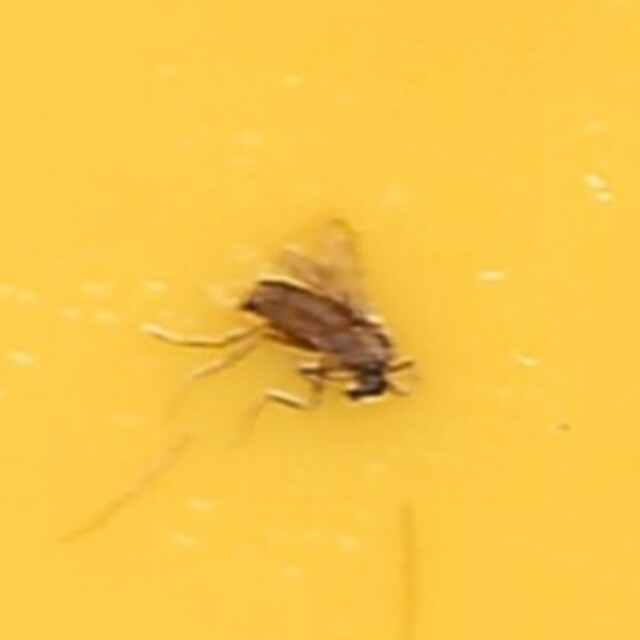Nematocera: (223, 215, 417, 425)
